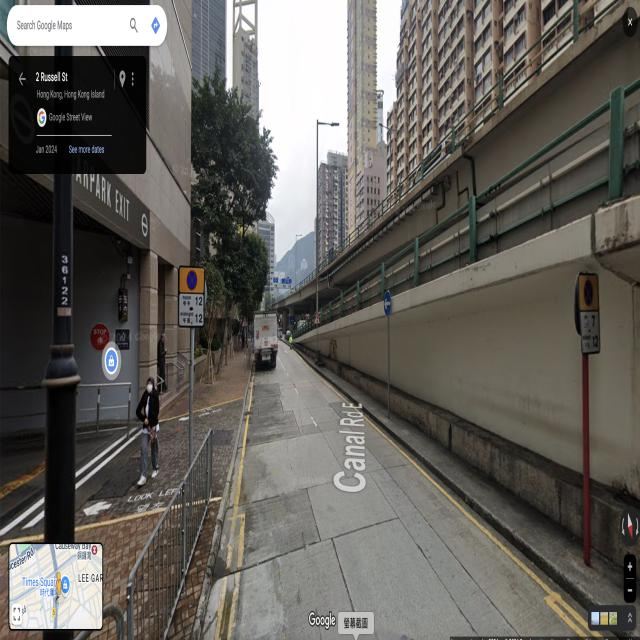Direction-Sign: (282, 278, 292, 284), (273, 277, 278, 283)
Order-Sign: (580, 274, 600, 352), (180, 266, 204, 325), (384, 289, 391, 315)
Warning-Sign: (241, 315, 247, 328), (314, 313, 320, 324)
